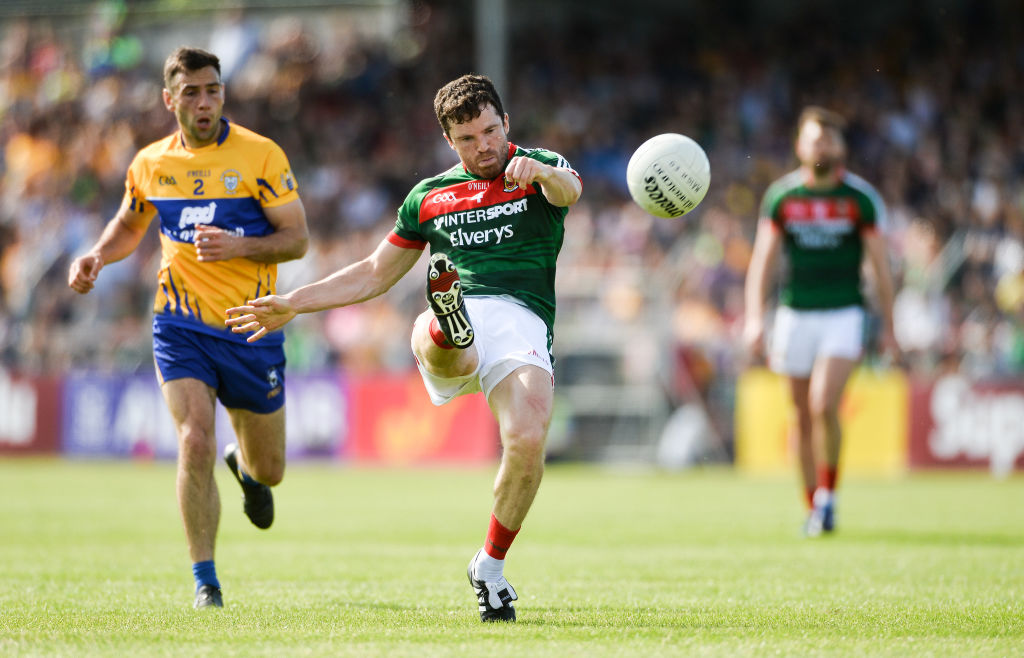ball: (631, 126, 711, 220)
player: (375, 50, 623, 568), (112, 48, 322, 580), (752, 98, 936, 521)
